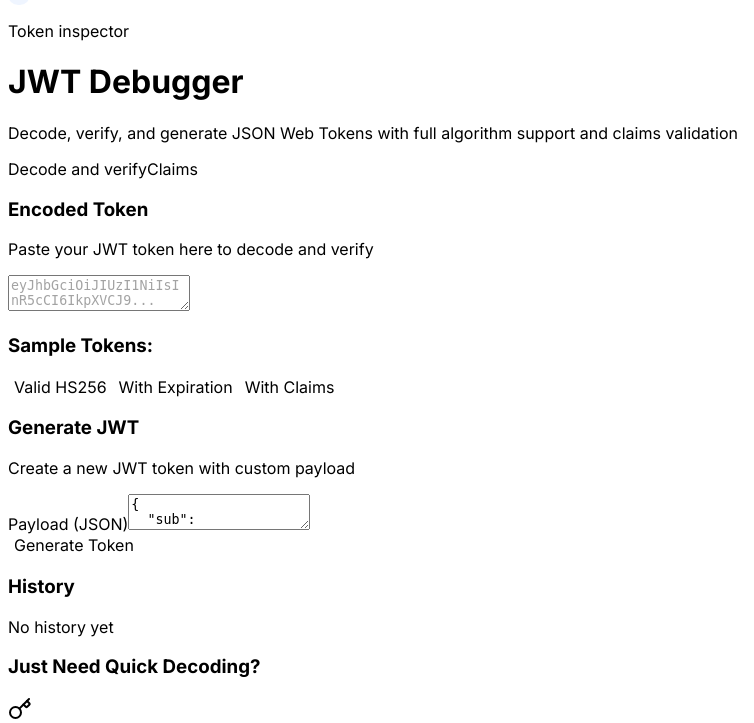
Test case: JWTDebuggerPage › Token Input and Decoding › shows decoded header after entering valid token
The image size is (754, 723).
In the text box with placeholder "eyJhbGciOiJIUzI1NiIsInR5cCI6IkpXVCJ9...": (99, 293) [8,275,190,311], type "eyJhbGciOiJIUzI1NiIsInR5cCI6IkpXVCJ9.eyJzdWIiOiIxMjM0NTY3ODkwIiwibmFtZSI6IkpvaG4gRG9lIiwiaWF0IjoxNTE2MjM5MDIyfQ.SflKxwRJSMeKKF2QT4fwpMeJf36POk6yJV_adQssw5c"
(page scrolled)
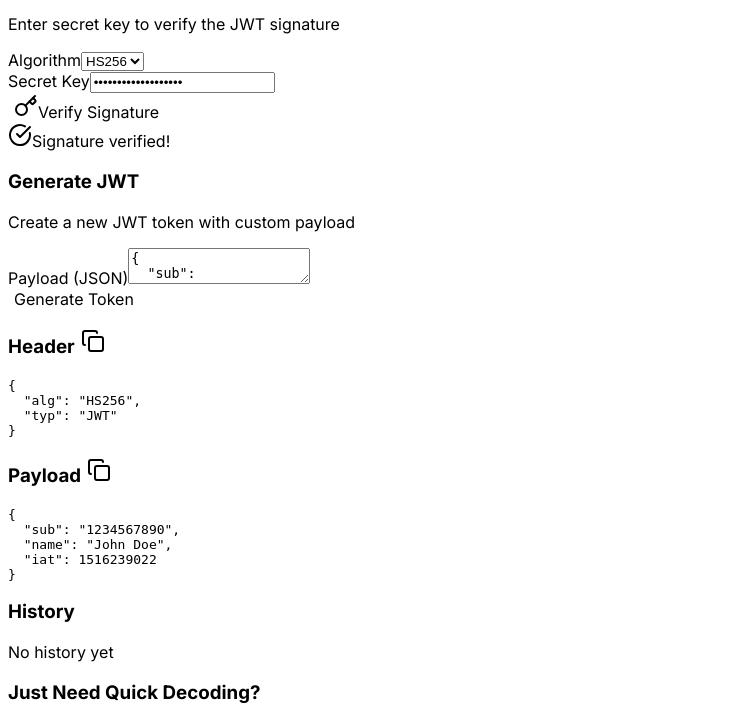
Check: the heading "Header" is shown, box [8,328,111,359]
